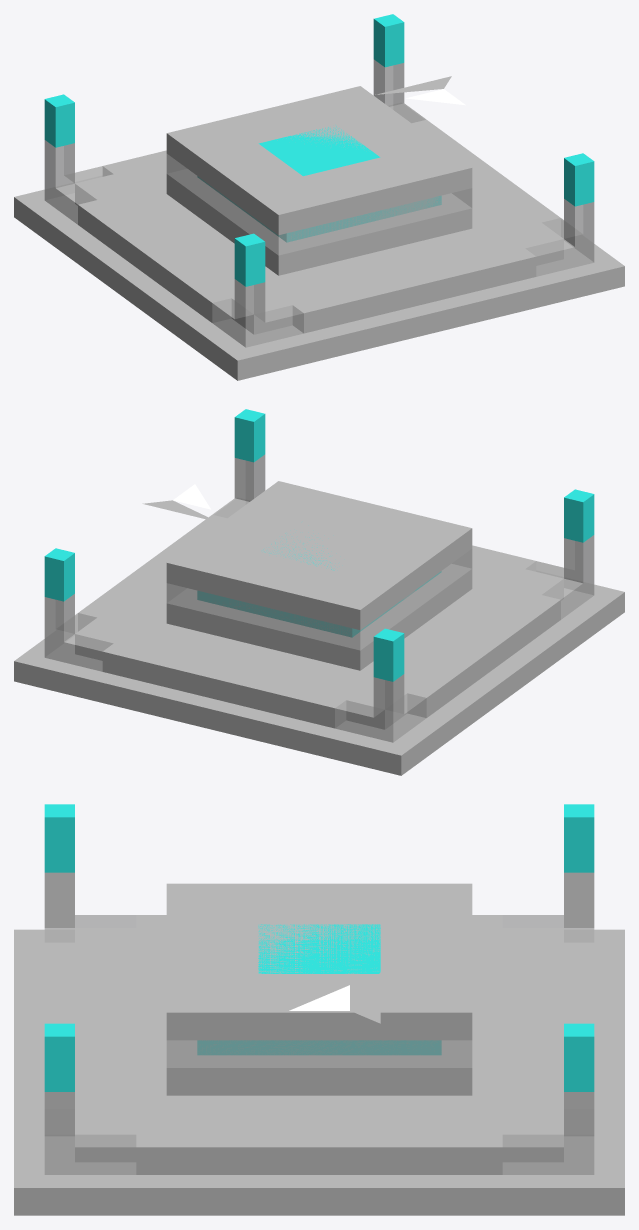
Rendered from metal3base.fbx.
The picture shows the model from 3 angles, top to bottom: view 1: azimuth 30°, elevation 25°; view 2: azimuth 150°, elevation 25°; view 3: azimuth 270°, elevation 25°; orthographic projection. The views are drawn at different scales.
Parts seen in each view (by area): view 1: metal3; view 2: metal3; view 3: metal3.
Boxes of the visible parts, box(x1,y1,x2,y2) form: metal3: box(14, 14, 624, 380); metal3: box(14, 409, 624, 775); metal3: box(14, 804, 624, 1215).
Bounding box in the file's own units: 200 × 60 × 200.
